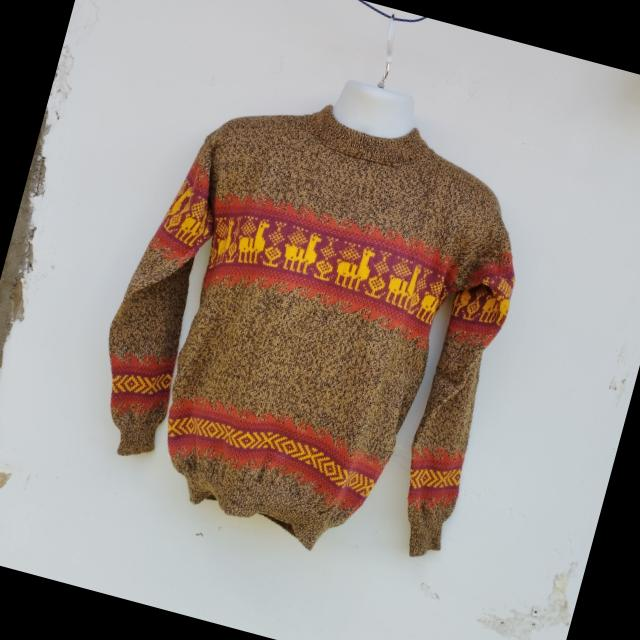Chompa: (67, 48, 553, 584)
